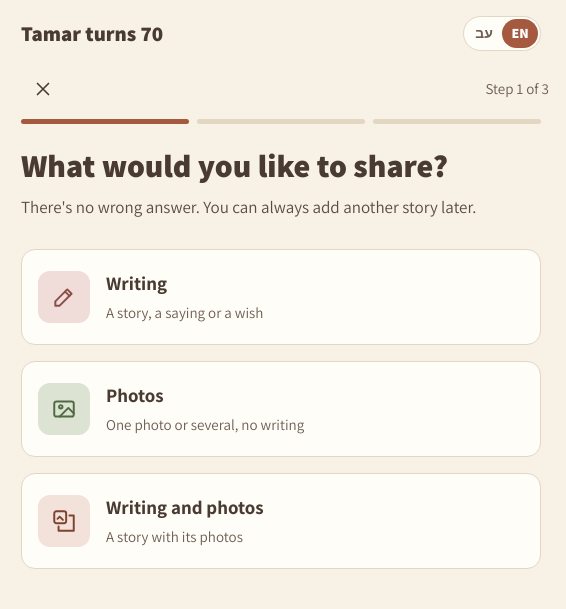
the English site › asks for the name in English in the add flow
Click the button "Writing and photos A story with its photos": (64, 521) [21, 473, 541, 569]
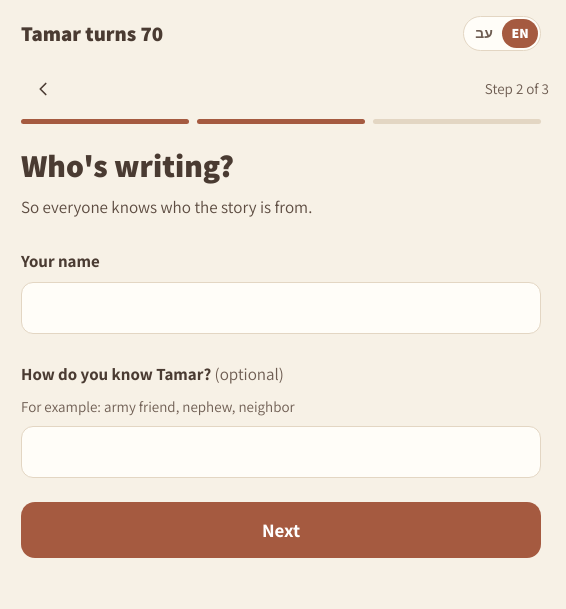
Expected: the text "Step 2 of 3" is shown, [485, 78, 549, 100]
Click the button "Next": (281, 530) [21, 502, 541, 558]
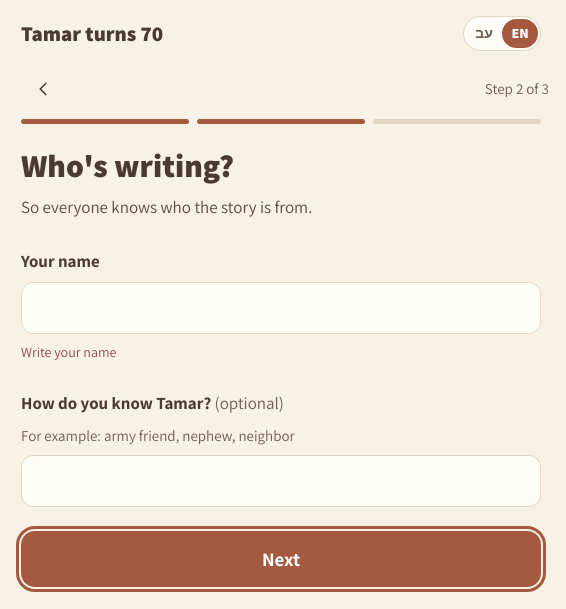
Expected: the text "Write your name" is shown, [21, 343, 116, 361]
